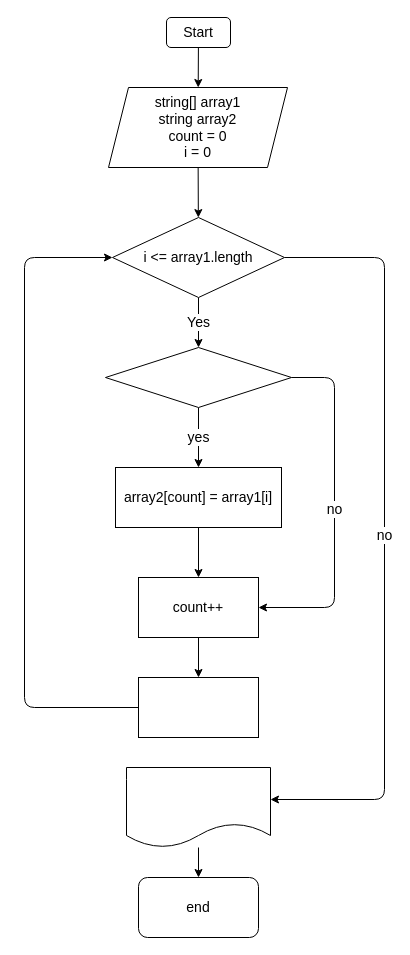
This 410x955 diagram has some shape labels left out. The box of each missing label's shape, as (x1, y1, x2, y2) in pixels:
array1[i] <= 3: (104, 346, 292, 408)
i++: (138, 676, 258, 738)
Write(array2[count]): (126, 766, 270, 848)
